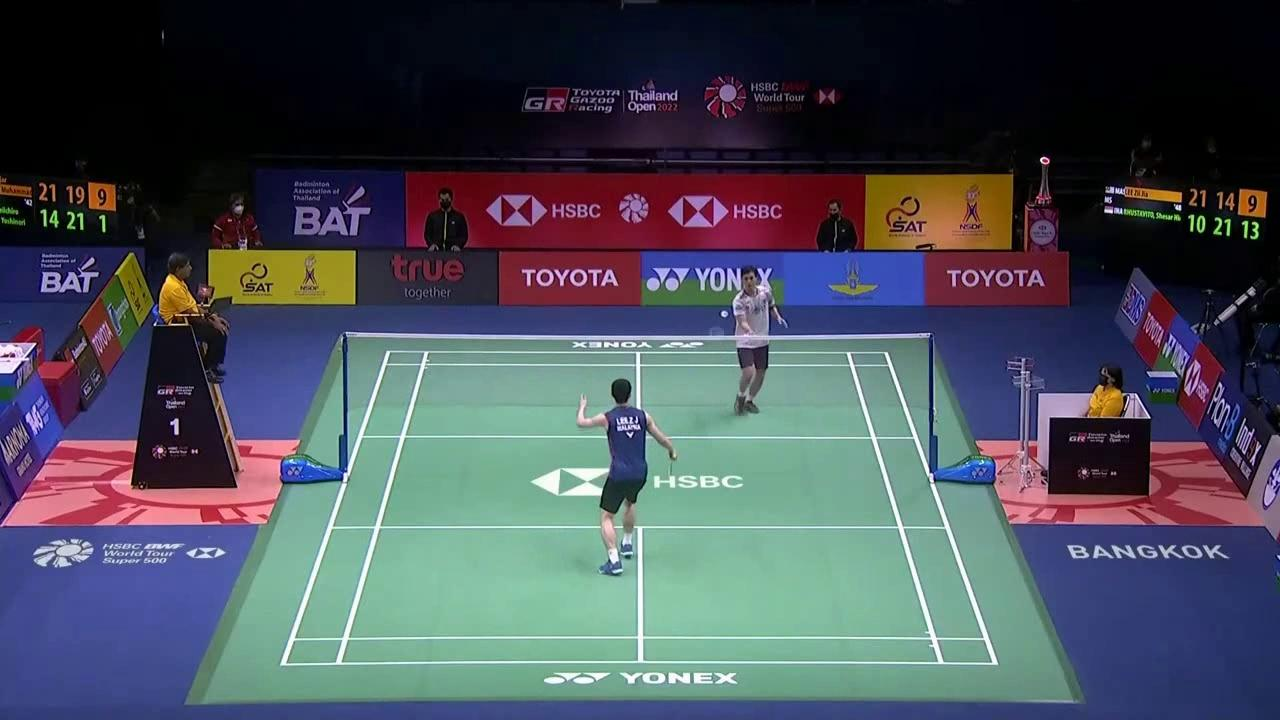racket: (708, 326, 757, 342), (666, 448, 677, 478)
shuttle: (720, 309, 729, 318)
